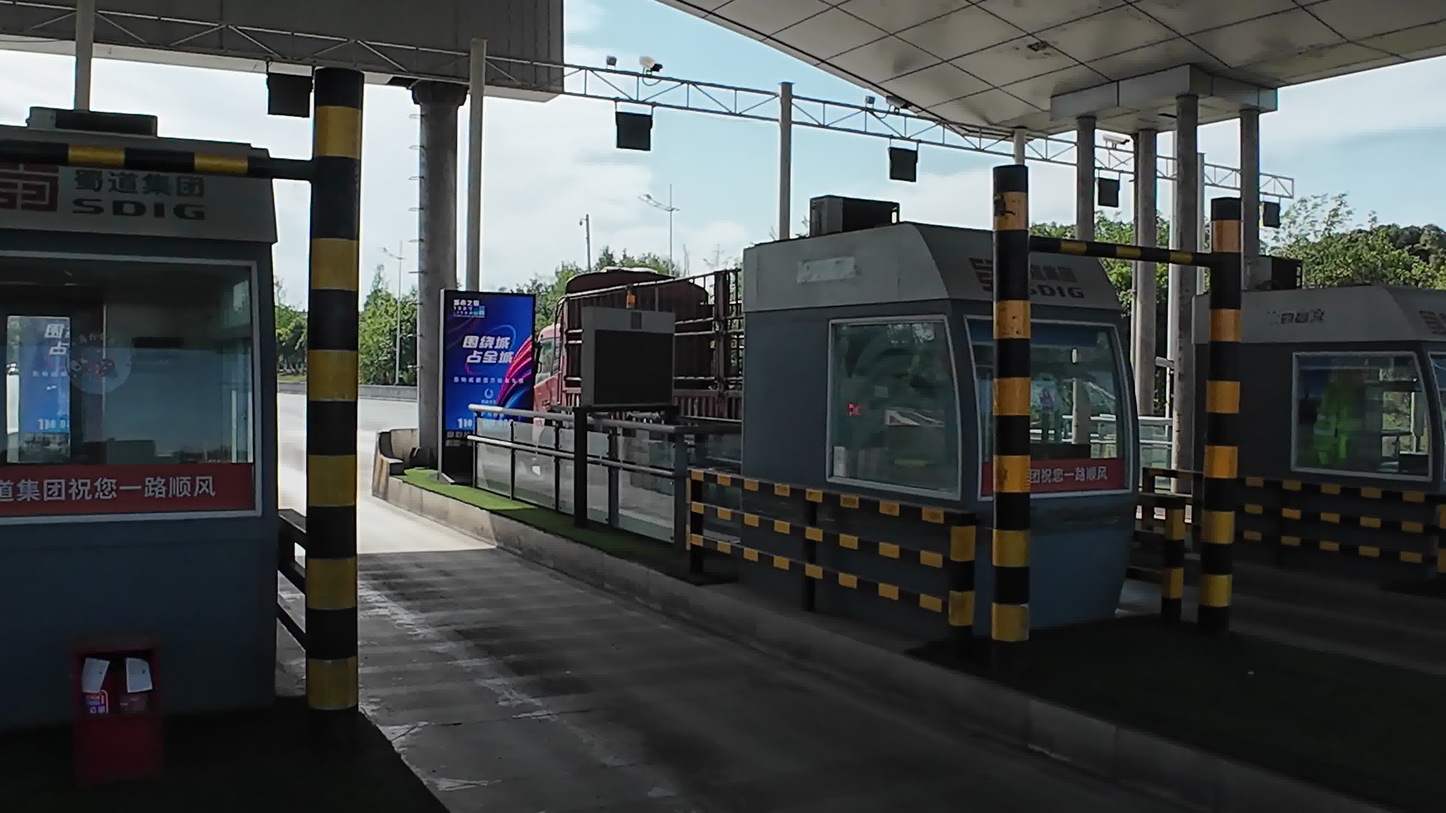fire_box: (87, 622, 154, 779)
led_screen: (397, 278, 545, 539), (557, 307, 679, 419), (253, 78, 332, 126), (868, 139, 928, 191), (614, 101, 646, 153), (1083, 176, 1122, 218), (1256, 195, 1289, 221)
roadside_plant: (1297, 225, 1432, 283)
toll_booth: (0, 126, 298, 729), (721, 213, 1098, 595), (1182, 284, 1436, 601)
